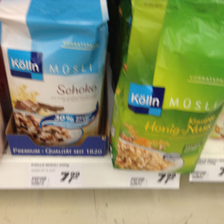cereal: (112, 1, 224, 171), (1, 1, 109, 144)
